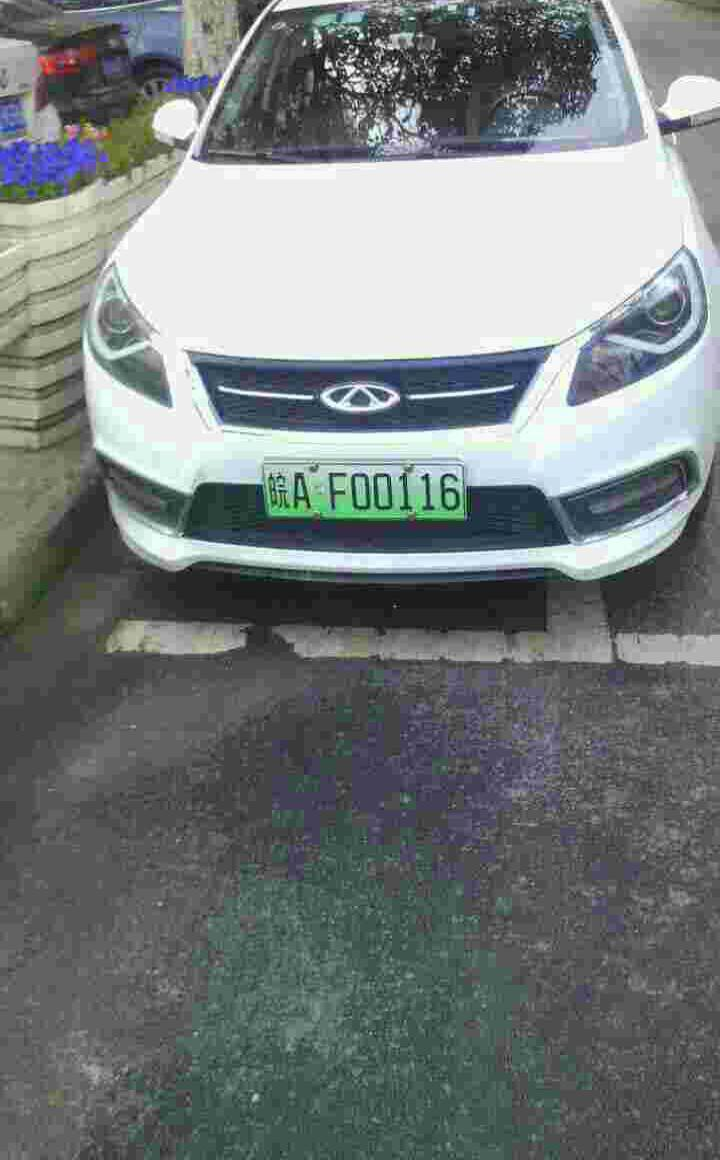car: (260, 459, 468, 525)
